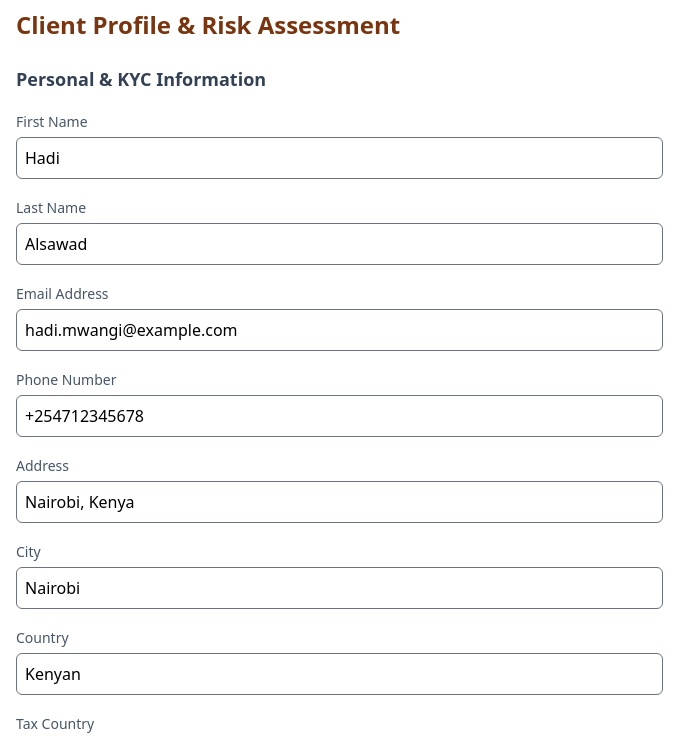
shows validation error for invalid email
The image size is (680, 739).
Replace the text in the field titled "Email Address" with "bad" at [340, 330], box [16,309,663,351]
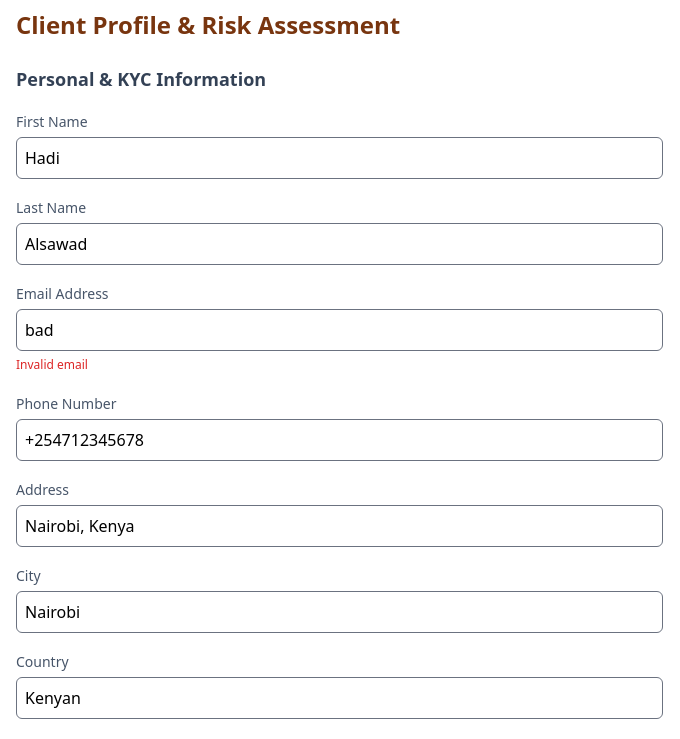
Now the text "Invalid email" is shown, box [16,356,88,373]
